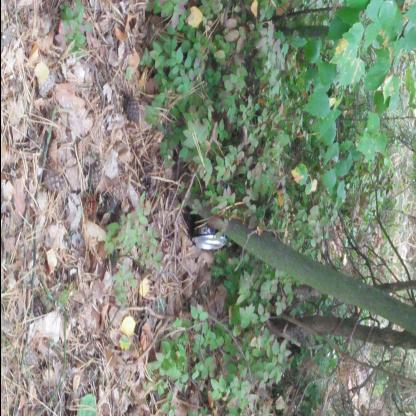metal: (164, 188, 200, 226)
